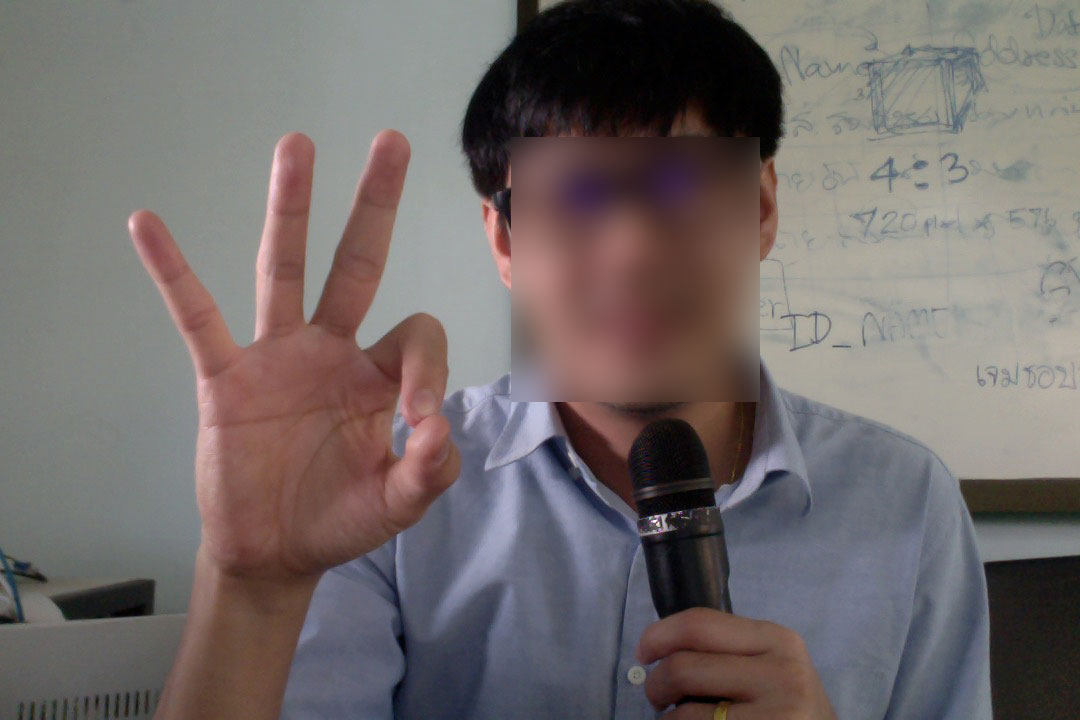for: (93, 101, 481, 614)
